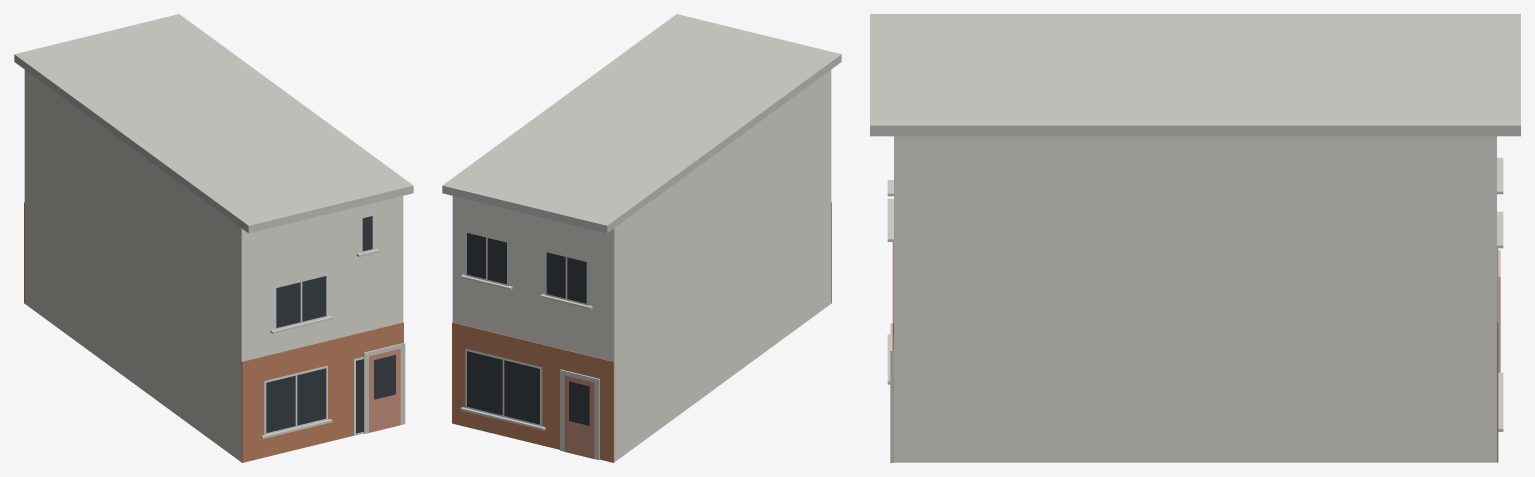
The model's file is nw-os-white-low__white__2__flat__long__solid__mirror.glb.
3 renders of one model, left to right at view 1: azimuth 30°, elevation 25°; view 2: azimuth 150°, elevation 25°; view 3: azimuth 270°, elevation 25°, orthographic. The views are drawn at different scales.
Parts seen in each view (by area): view 1: nw-os-white-low__white__2__flat__long__solid__mirror; view 2: nw-os-white-low__white__2__flat__long__solid__mirror; view 3: nw-os-white-low__white__2__flat__long__solid__mirror.
Part boxes in pixels (x1,y1,x2,y2): nw-os-white-low__white__2__flat__long__solid__mirror: [14, 14, 413, 462]; nw-os-white-low__white__2__flat__long__solid__mirror: [442, 14, 841, 462]; nw-os-white-low__white__2__flat__long__solid__mirror: [870, 14, 1520, 462].
Bounding box in the file's own units: 4.96 × 7 × 12.21.
